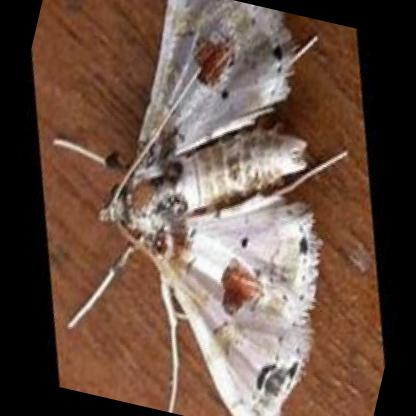leucinodes: (94, 0, 316, 416)
